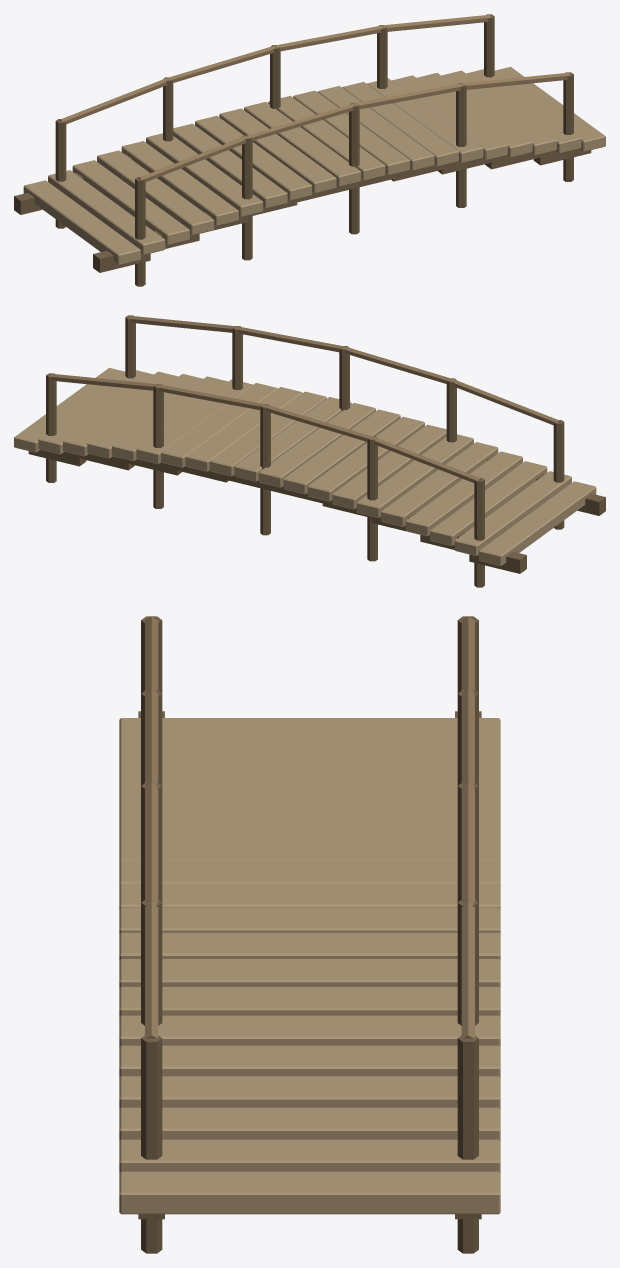
Rendered from bridge.glb.
The picture shows the model from 3 angles, top to bottom: view 1: azimuth 30°, elevation 25°; view 2: azimuth 150°, elevation 25°; view 3: azimuth 270°, elevation 25°; orthographic projection. The views are drawn at different scales.
Visible parts, largest first — view 1: bridge_oak_light, bridge_oak_dark, bridge_oak; view 2: bridge_oak_light, bridge_oak_dark, bridge_oak; view 3: bridge_oak_light, bridge_oak_dark, bridge_oak.
Boxes of the visible parts, bbox=[...] form: bridge_oak_light: bbox=[23, 66, 605, 265]; bridge_oak_dark: bbox=[14, 14, 591, 286]; bridge_oak: bbox=[59, 14, 569, 182]; bridge_oak_light: bbox=[14, 367, 596, 566]; bridge_oak_dark: bbox=[28, 315, 605, 587]; bridge_oak: bbox=[50, 315, 560, 483]; bridge_oak_light: bbox=[119, 718, 500, 1214]; bridge_oak_dark: bbox=[138, 616, 481, 1253]; bridge_oak: bbox=[145, 616, 474, 1038].
Bounding box in the file's own units: 8.2 × 2.01 × 2.7.
